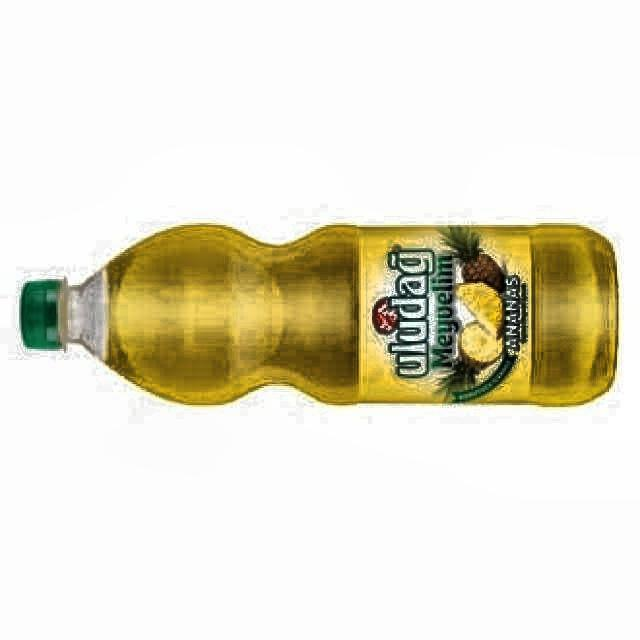plastic: (20, 225, 618, 404)
